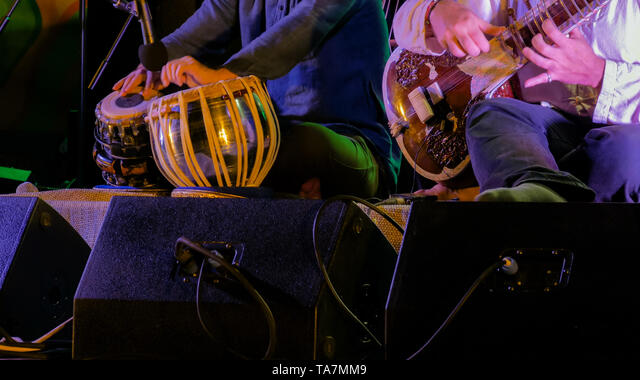tabla: (149, 75, 282, 190), (95, 87, 160, 187)
